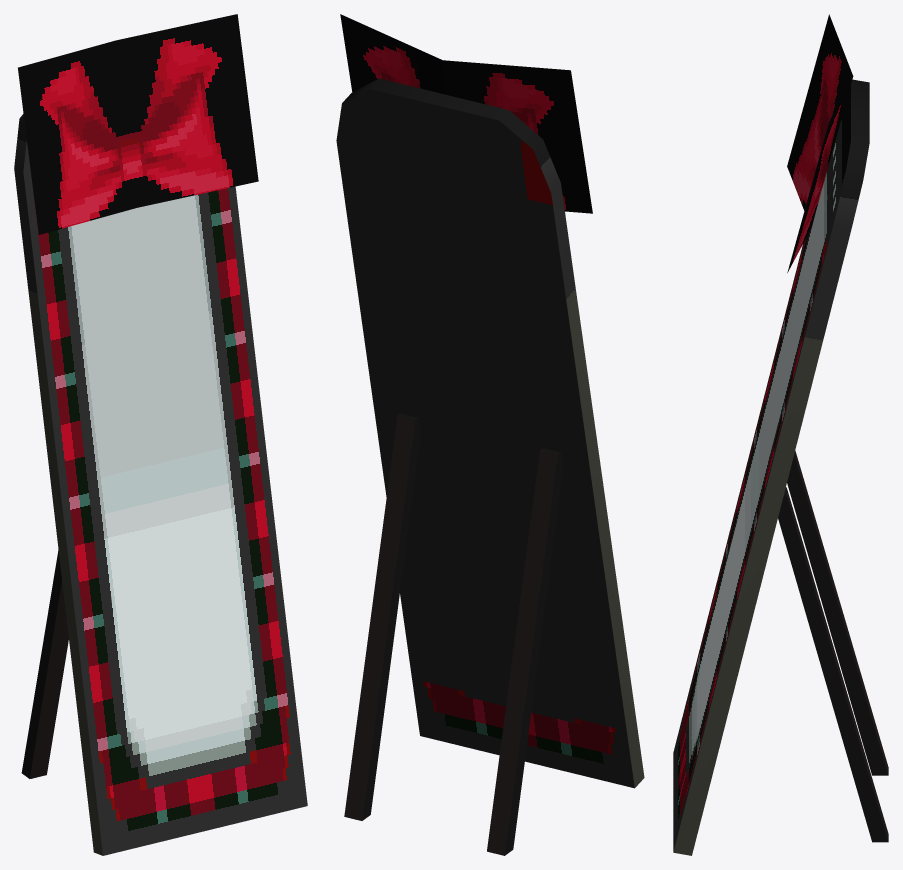
3 renders of one model, left to right at view 1: azimuth 30°, elevation 25°; view 2: azimuth 150°, elevation 25°; view 3: azimuth 270°, elevation 25°, orthographic. The views are drawn at different scales.
Visible parts, largest first — view 1: 3837kg3_ser18; view 2: 3837kg3_ser18; view 3: 3837kg3_ser18.
Part boxes in pixels (x1,y1,x2,y2): 3837kg3_ser18: [14, 14, 307, 855]; 3837kg3_ser18: [336, 14, 644, 855]; 3837kg3_ser18: [673, 14, 888, 855].
Bounding box in the file's own units: 0.6235 × 2 × 0.5273.
Materials: 3 (3 with a texture image).
